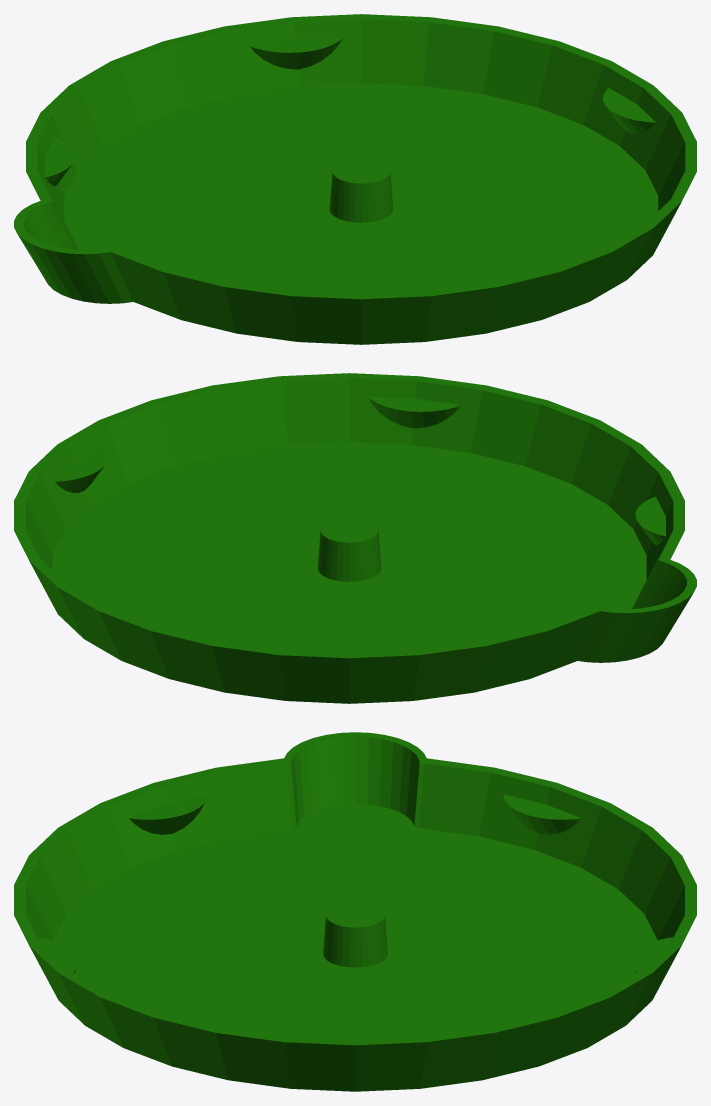
The model's file is plate_large-bonsai-planter.stl.glb.
The picture shows the model from 3 angles, top to bottom: view 1: azimuth 30°, elevation 25°; view 2: azimuth 150°, elevation 25°; view 3: azimuth 270°, elevation 25°; orthographic projection.
Visible parts, largest first — view 1: Plate Large-Bonsai-Planter; view 2: Plate Large-Bonsai-Planter; view 3: Plate Large-Bonsai-Planter.
Part boxes in pixels (left/top/right/bottom): Plate Large-Bonsai-Planter: left=14, top=14, right=696, bottom=344; Plate Large-Bonsai-Planter: left=14, top=373, right=696, bottom=703; Plate Large-Bonsai-Planter: left=14, top=732, right=696, bottom=1091.
Bounding box in the file's own units: 226 × 20 × 208.
